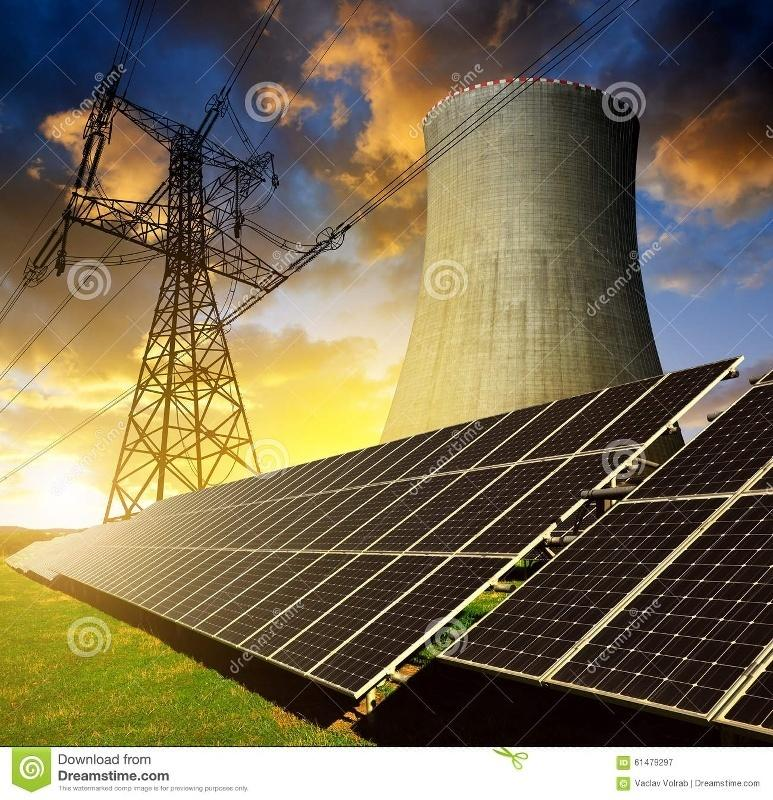power_tower: (47, 69, 327, 513)
